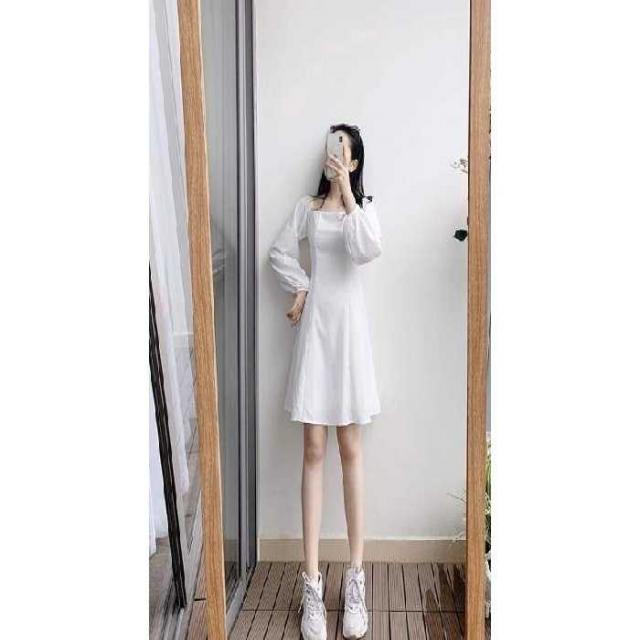clothes: (268, 195, 385, 426)
